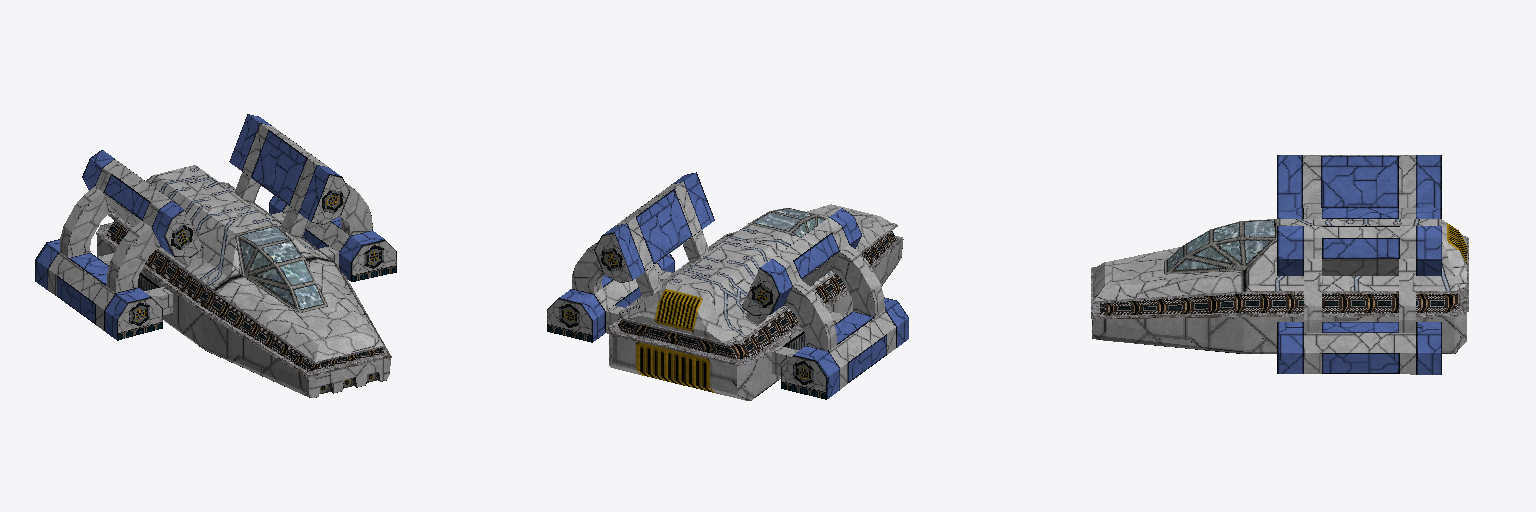
3 renders of one model, left to right at view 1: azimuth 30°, elevation 25°; view 2: azimuth 150°, elevation 25°; view 3: azimuth 270°, elevation 25°, orthographic.
Parts seen in each view (by area): view 1: Cube; view 2: Cube; view 3: Cube.
Boxes of the visible parts, <box> form: Cube: <box>35,114,396,397</box>; Cube: <box>547,172,908,400</box>; Cube: <box>1091,155,1468,374</box>.
Bounding box in the file's own units: 3.07 × 1.36 × 3.59.
1 materials, 1 textured.